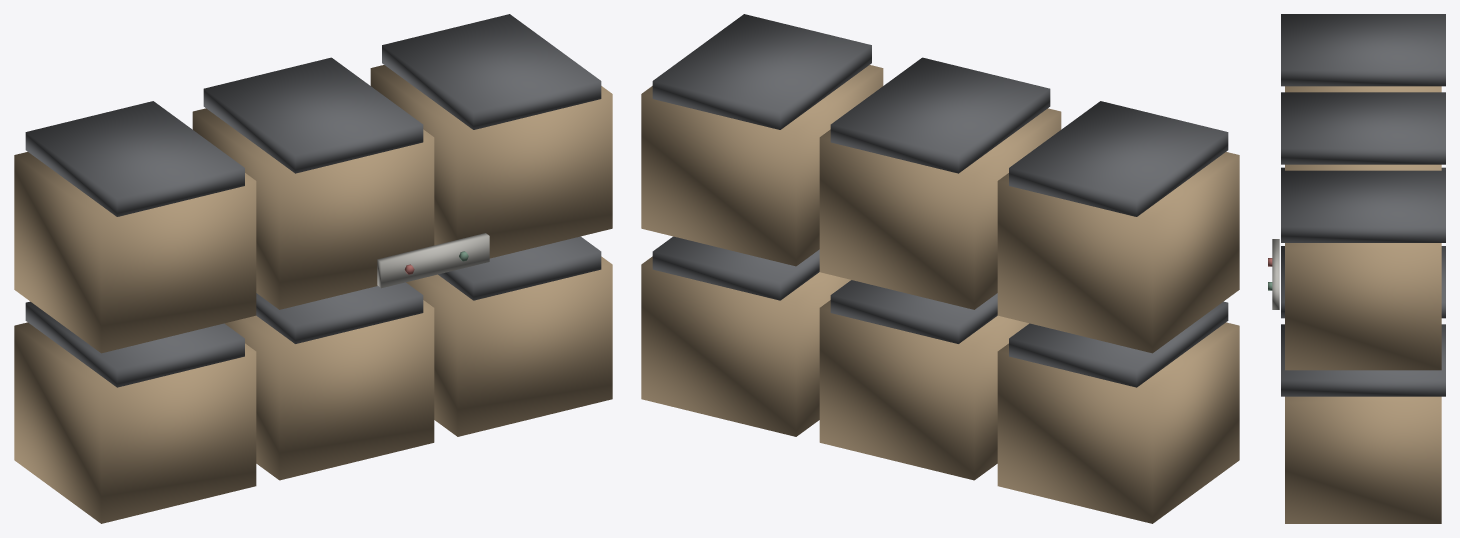
File: fruit_crate_display__compact.glb
3 renders of one model, left to right at view 1: azimuth 30°, elevation 25°; view 2: azimuth 150°, elevation 25°; view 3: azimuth 270°, elevation 25°, orthographic. The views are drawn at different scales.
Parts seen in each view (by area): view 1: world; view 2: world; view 3: world.
Boxes of the visible parts, box(x1,y1,x2,y2) form: world: box(14, 14, 612, 523); world: box(641, 14, 1239, 523); world: box(1268, 14, 1445, 523).
Bounding box in the file's own units: 1.11 × 0.6696 × 0.3707.
